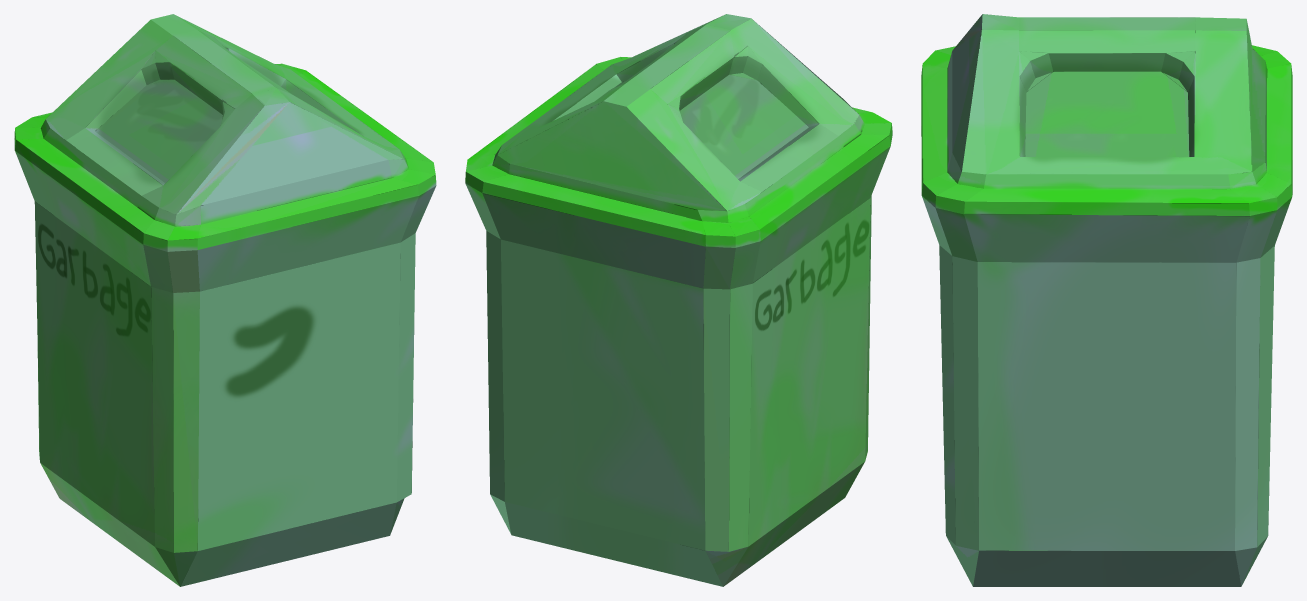
The model's file is tempatsampah.fbx.
The picture shows the model from 3 angles, left to right: view 1: azimuth 30°, elevation 25°; view 2: azimuth 150°, elevation 25°; view 3: azimuth 270°, elevation 25°; orthographic projection. The views are drawn at different scales.
Visible parts, largest first — view 1: Cube; view 2: Cube; view 3: Cube.
Part boxes in pixels (x1,y1,x2,y2): Cube: [14, 14, 436, 586]; Cube: [465, 14, 892, 586]; Cube: [921, 14, 1292, 586].
Size of the model in its own units: 238 by 355 by 235.
1 material, 1 textured.
